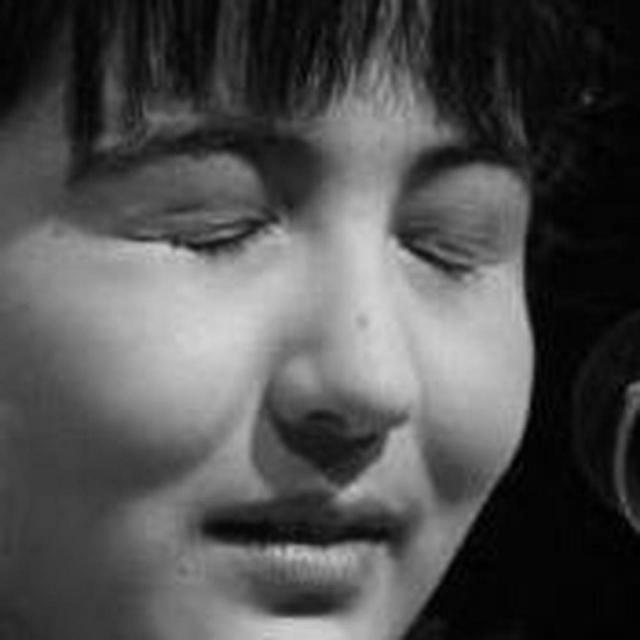real: (0, 40, 535, 640), (83, 127, 518, 318)
